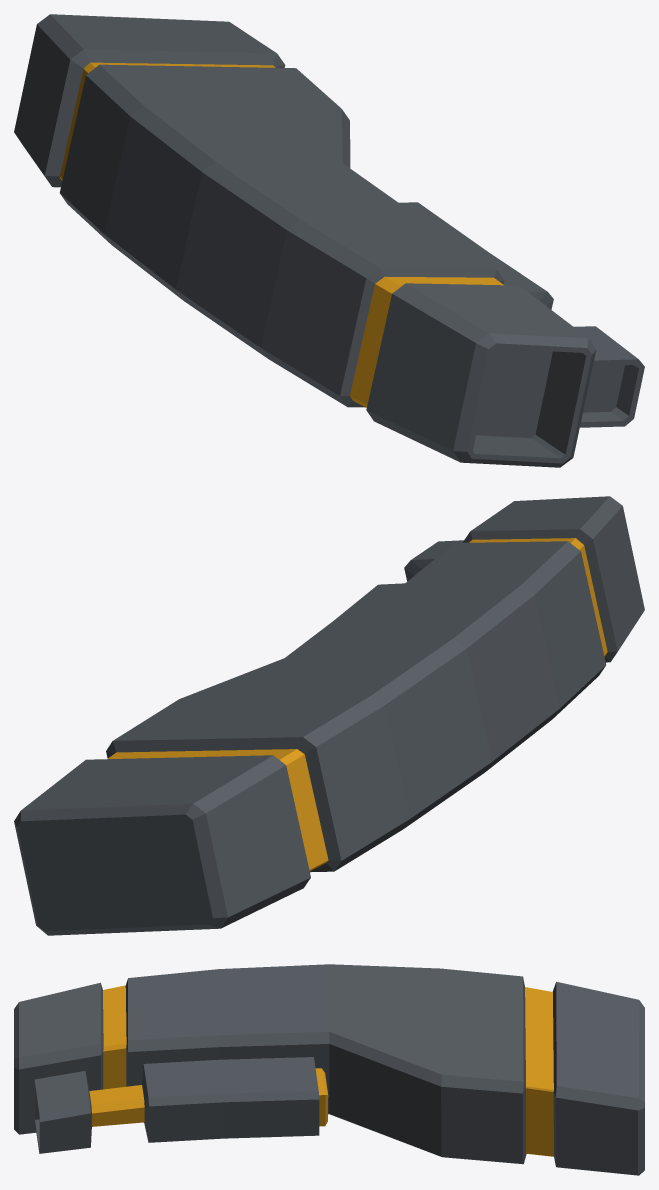
The model's file is Fighter_10_Light_Right_Yellow.fbx.
3 renders of one model, top to bottom at view 1: azimuth 30°, elevation 25°; view 2: azimuth 150°, elevation 25°; view 3: azimuth 270°, elevation 25°, orthographic. The views are drawn at different scales.
Parts seen in each view (by area): view 1: Fighter_10_Light_Right_Yellow; view 2: Fighter_10_Light_Right_Yellow; view 3: Fighter_10_Light_Right_Yellow.
Boxes of the visible parts, x1=… form: Fighter_10_Light_Right_Yellow: x1=14, y1=14, x2=644, y2=467; Fighter_10_Light_Right_Yellow: x1=14, y1=496, x2=644, y2=935; Fighter_10_Light_Right_Yellow: x1=14, y1=964, x2=644, y2=1175.
Size of the model in its own units: 337 by 229 by 929.
Materials: 2 (2 with a texture image).
